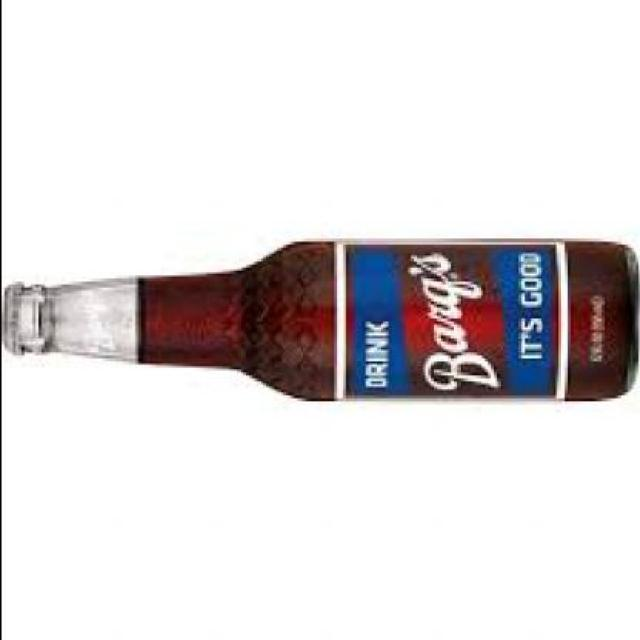GLASS: (11, 239, 634, 404)
METAL: (1, 289, 17, 360)
